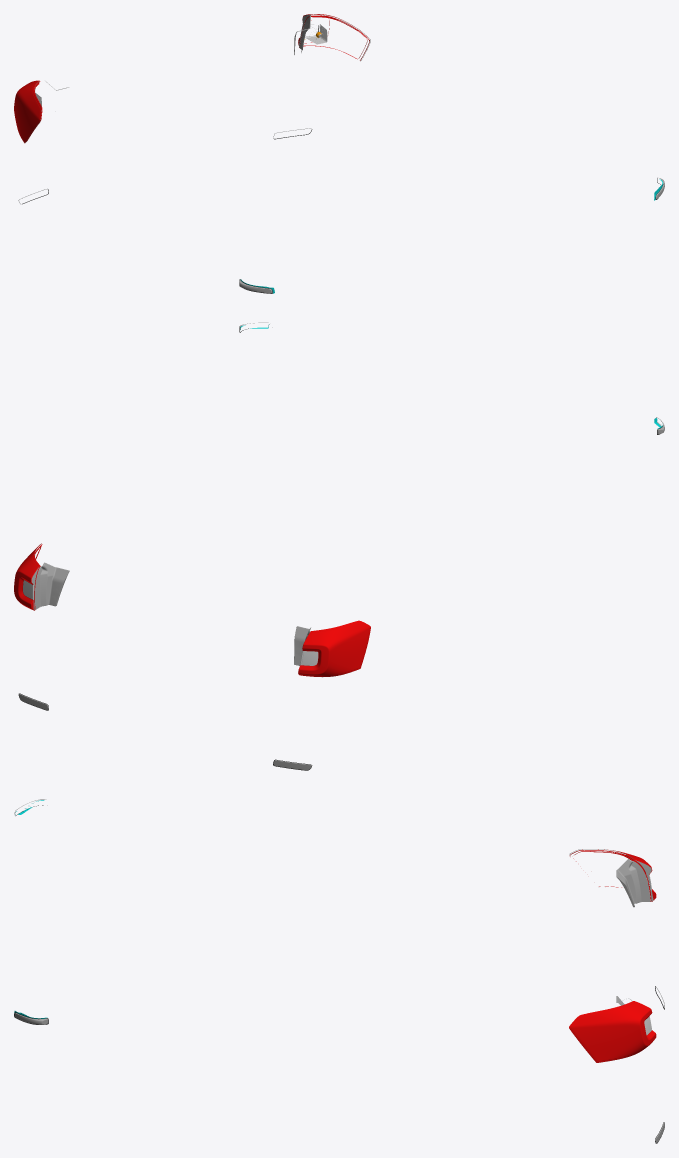
Rendered from BREZZA_ZXIP_EX_LIGHTS_MESH.glb.
3 renders of one model, top to bottom at view 1: azimuth 30°, elevation 25°; view 2: azimuth 150°, elevation 25°; view 3: azimuth 270°, elevation 25°, orthographic. The views are drawn at different scales.
Visible parts, largest first — view 1: BREZZA_ZXIP_EX_LIGHTS_MESH; view 2: BREZZA_ZXIP_EX_LIGHTS_MESH; view 3: BREZZA_ZXIP_EX_LIGHTS_MESH.
Part boxes in pixels (left/top/right/bottom): BREZZA_ZXIP_EX_LIGHTS_MESH: left=14, top=14, right=664, bottom=293; BREZZA_ZXIP_EX_LIGHTS_MESH: left=14, top=322, right=664, bottom=770; BREZZA_ZXIP_EX_LIGHTS_MESH: left=14, top=799, right=664, bottom=1143.
Size of the model in its own units: 2.04 by 0.6893 by 2.53.
